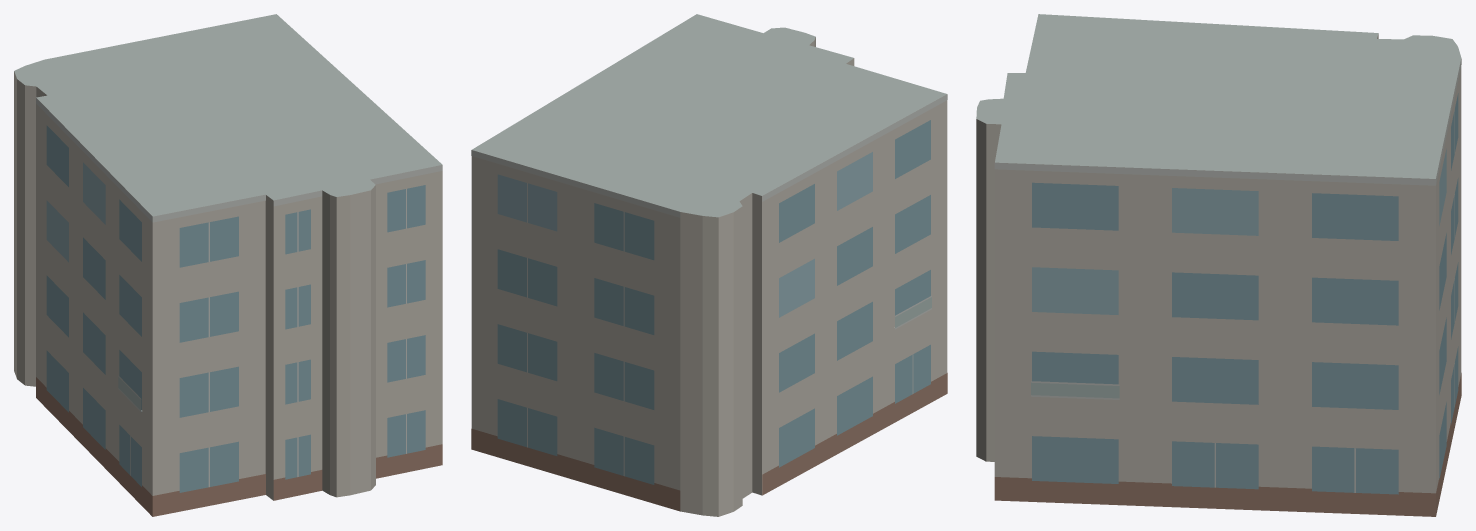
Rendered from survey-upis-33027185.glb.
3 renders of one model, left to right at view 1: azimuth 30°, elevation 25°; view 2: azimuth 150°, elevation 25°; view 3: azimuth 270°, elevation 25°, orthographic. The views are drawn at different scales.
Visible parts, largest first — view 1: survey-upis-33027185.tmp; view 2: survey-upis-33027185.tmp; view 3: survey-upis-33027185.tmp.
Part boxes in pixels (bbox=[...]): survey-upis-33027185.tmp: bbox=[14, 14, 442, 516]; survey-upis-33027185.tmp: bbox=[471, 14, 947, 516]; survey-upis-33027185.tmp: bbox=[976, 14, 1461, 516].
Bounding box in the file's own units: 12.79 × 12.2 × 15.88.
